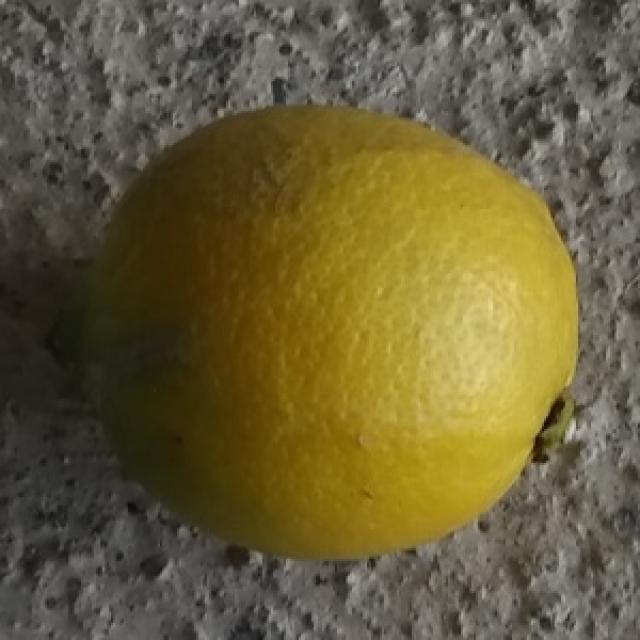Ripe: (46, 96, 587, 565)
